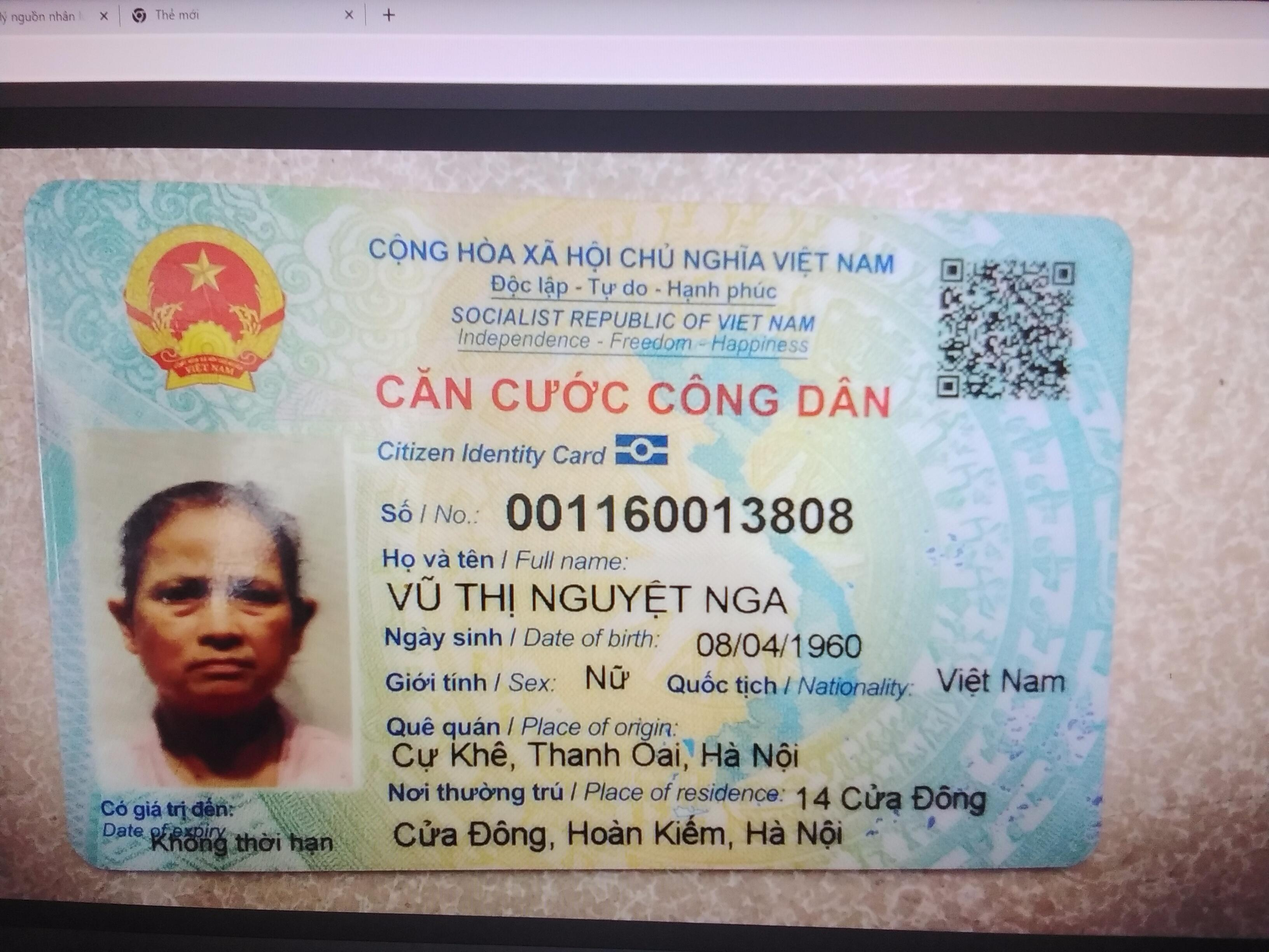ID: (503, 486, 865, 541)
birth: (685, 624, 876, 670)
name: (376, 573, 809, 625)
place: (376, 738, 833, 777)
residence: (381, 810, 858, 860), (791, 775, 993, 823)
